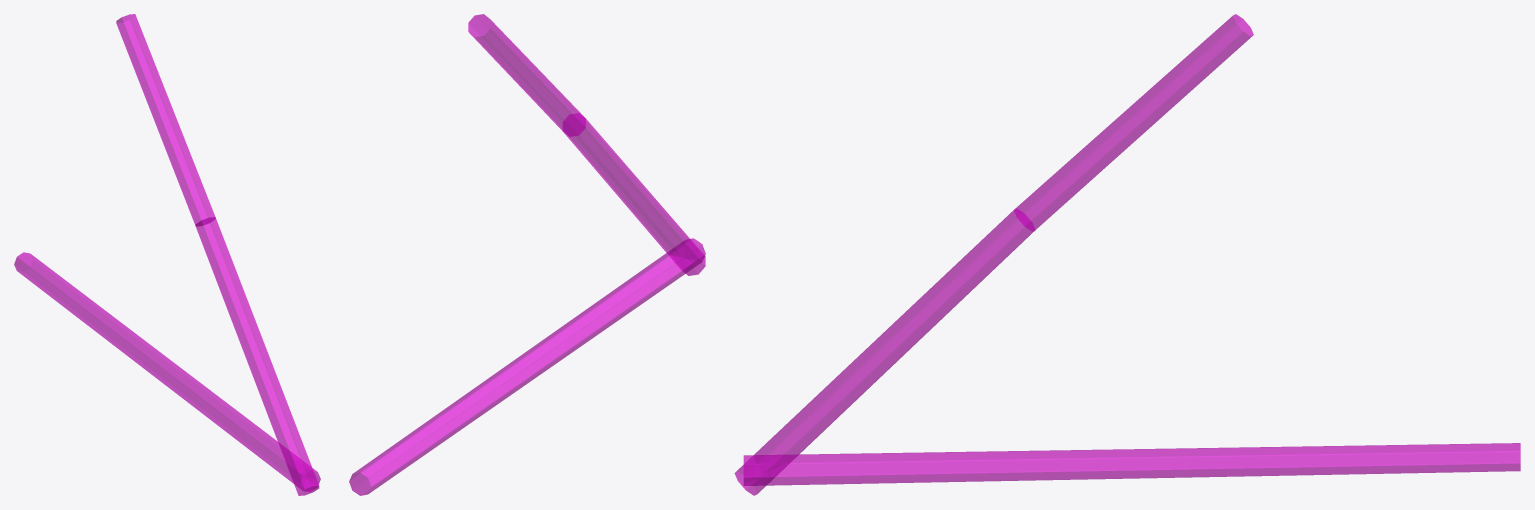
File: SM_Veh_Ship_L_Mast_Back_02_Boom_Back_01_Collision.fbx
3 views of the same model, side by side, from view 1: azimuth 30°, elevation 25°; view 2: azimuth 150°, elevation 25°; view 3: azimuth 270°, elevation 25° (orthographic). The views are drawn at different scales.
Visible parts, largest first — view 1: SM_Veh_Ship_L_Mast_Back_02_Boom_Back_01_Collision; view 2: SM_Veh_Ship_L_Mast_Back_02_Boom_Back_01_Collision; view 3: SM_Veh_Ship_L_Mast_Back_02_Boom_Back_01_Collision.
Part boxes in pixels (bbox=[...]): SM_Veh_Ship_L_Mast_Back_02_Boom_Back_01_Collision: bbox=[14, 14, 320, 495]; SM_Veh_Ship_L_Mast_Back_02_Boom_Back_01_Collision: bbox=[349, 14, 705, 495]; SM_Veh_Ship_L_Mast_Back_02_Boom_Back_01_Collision: bbox=[734, 14, 1520, 495].
Bounding box in the file's own units: 67.93 × 1058 × 1575.
